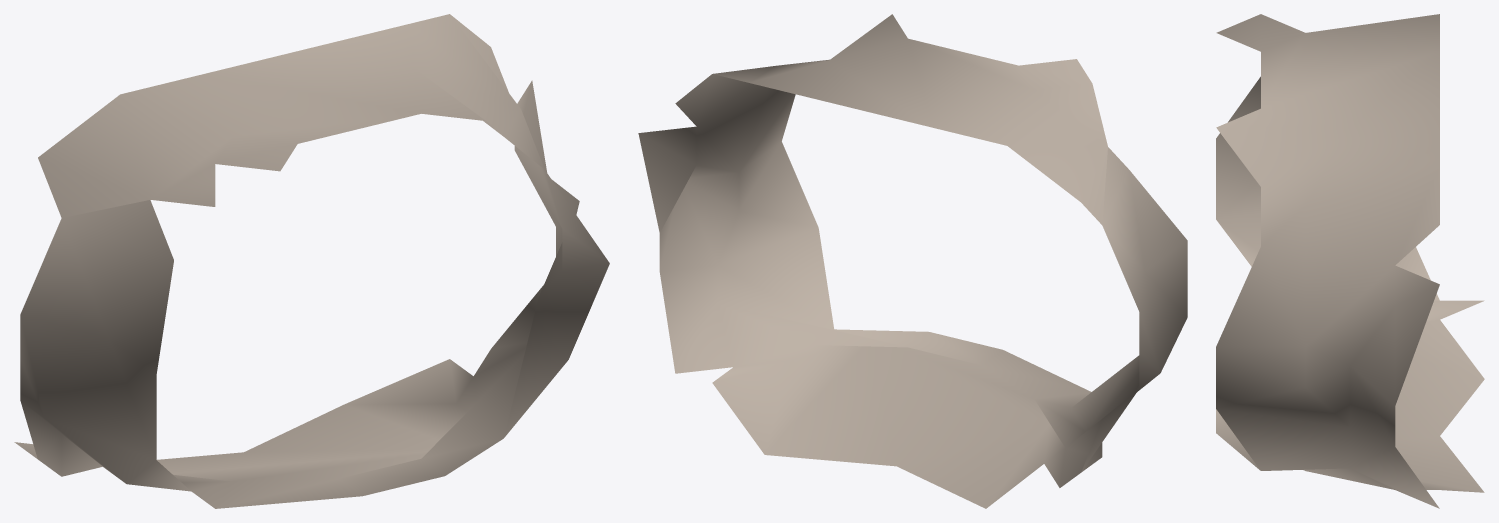
File: m_jet_06d22d7c.glb
3 views of the same model, side by side, from view 1: azimuth 30°, elevation 25°; view 2: azimuth 150°, elevation 25°; view 3: azimuth 270°, elevation 25° (orthographic). The views are drawn at different scales.
Visible parts, largest first — view 1: mesh; view 2: mesh; view 3: mesh.
Part boxes in pixels (x1=…): mesh: x1=14, y1=14, x2=609, y2=508; mesh: x1=638, y1=14, x2=1187, y2=508; mesh: x1=1216, y1=14, x2=1484, y2=508.
Bounding box in the file's own units: 13 × 9 × 6.
